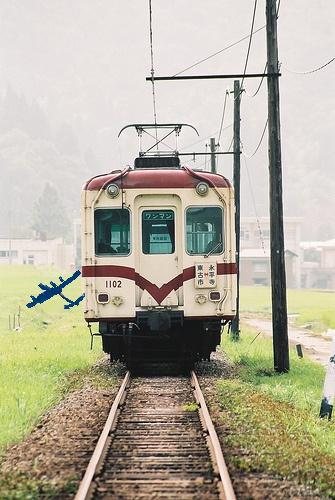tampered: (27, 271, 85, 309)
